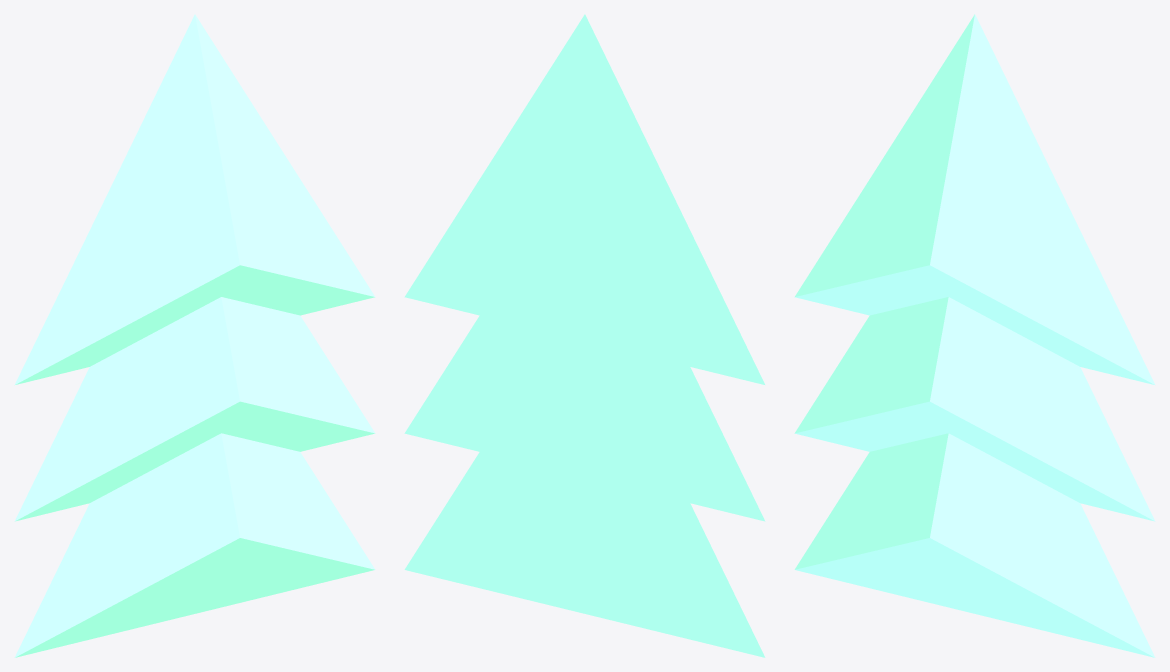
File: item_WeaponUpgrade.fbx
The picture shows the model from 3 angles, left to right: view 1: azimuth 30°, elevation 25°; view 2: azimuth 150°, elevation 25°; view 3: azimuth 330°, elevation 25°; orthographic projection.
Visible parts, largest first — view 1: Item_WeaponUpgrade; view 2: Item_WeaponUpgrade; view 3: Item_WeaponUpgrade.
Part boxes in pixels (bbox=[...]): Item_WeaponUpgrade: bbox=[14, 14, 375, 657]; Item_WeaponUpgrade: bbox=[404, 14, 765, 657]; Item_WeaponUpgrade: bbox=[794, 14, 1155, 657].
Size of the model in its own units: 69.28 by 110 by 15.
